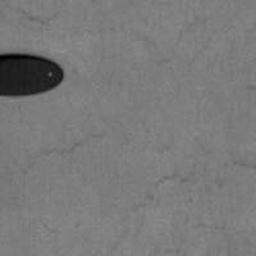Punching: (0, 52, 64, 99)
